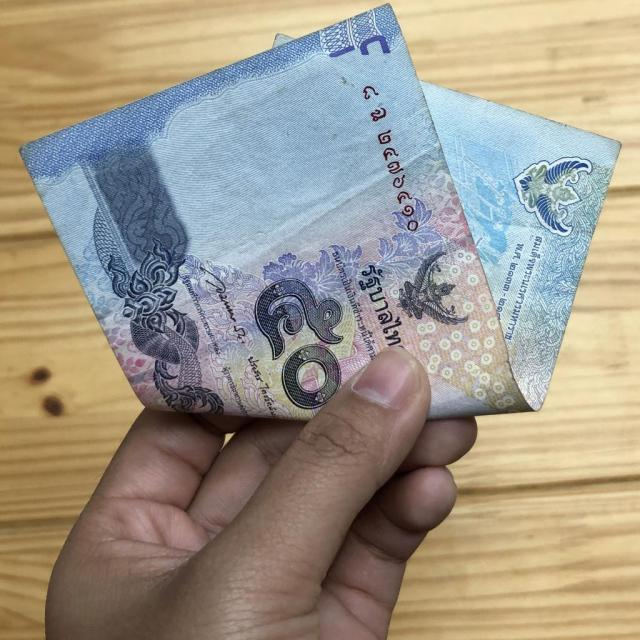THAI50: (19, 5, 618, 423)
